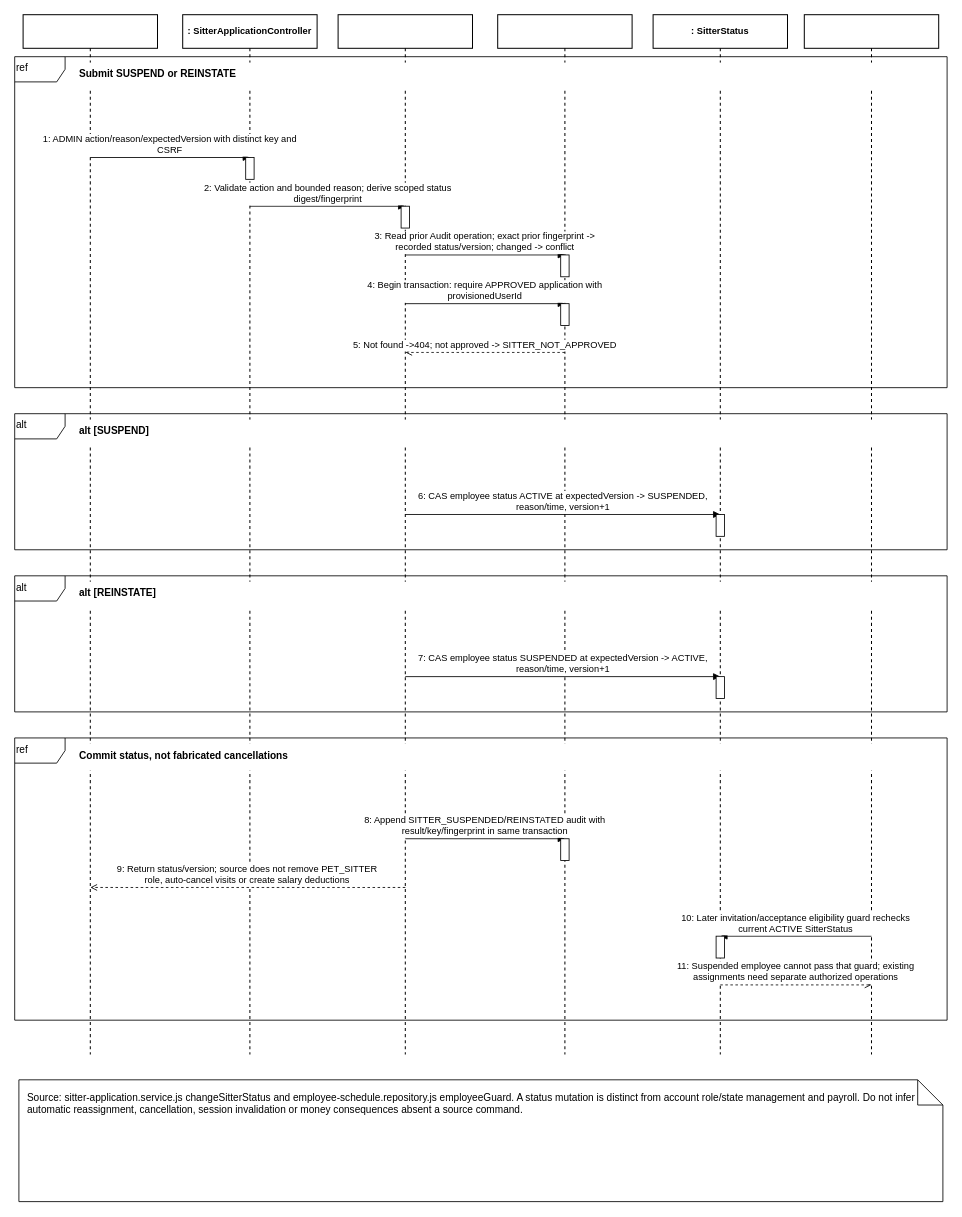
This 962x1217 diagram has some shape labels left out. Here are the shapes that lost their labels. From the top down, the box of each, then its label:
(22, 14, 158, 1055): Admin
(337, 14, 473, 1055): : SitterApplicationService
(497, 14, 632, 1055): : Application / Audit
(803, 14, 939, 1055): : Dispatch eligibility
